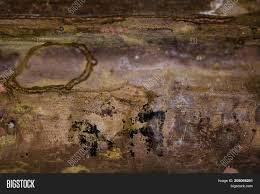rust: (1, 2, 257, 33), (68, 103, 170, 162), (5, 35, 100, 98), (183, 110, 247, 156), (1, 112, 26, 147)
